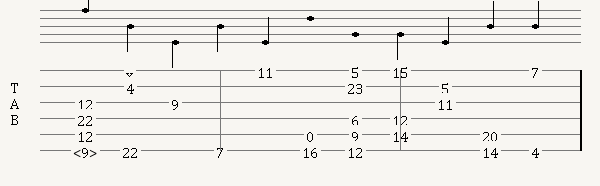0: (306, 127, 318, 141)
11: (257, 63, 277, 77), (437, 95, 457, 109)
12: (77, 95, 97, 109), (77, 127, 97, 141), (347, 143, 367, 157), (392, 111, 412, 125)
14: (392, 127, 412, 141), (482, 143, 502, 157)
15: (392, 63, 412, 78)
16: (302, 143, 322, 157)
20: (482, 127, 502, 141)
22: (77, 111, 97, 125), (122, 143, 142, 157)
23: (347, 79, 367, 93)
4: (126, 79, 138, 93), (531, 143, 543, 157)
5: (351, 63, 363, 78), (441, 79, 453, 94)
6: (351, 111, 363, 125)
7: (216, 143, 228, 157), (531, 63, 543, 77)
9: (171, 95, 183, 109), (351, 127, 363, 141)
harmonic: (73, 143, 101, 157)
x: (126, 65, 137, 76)
